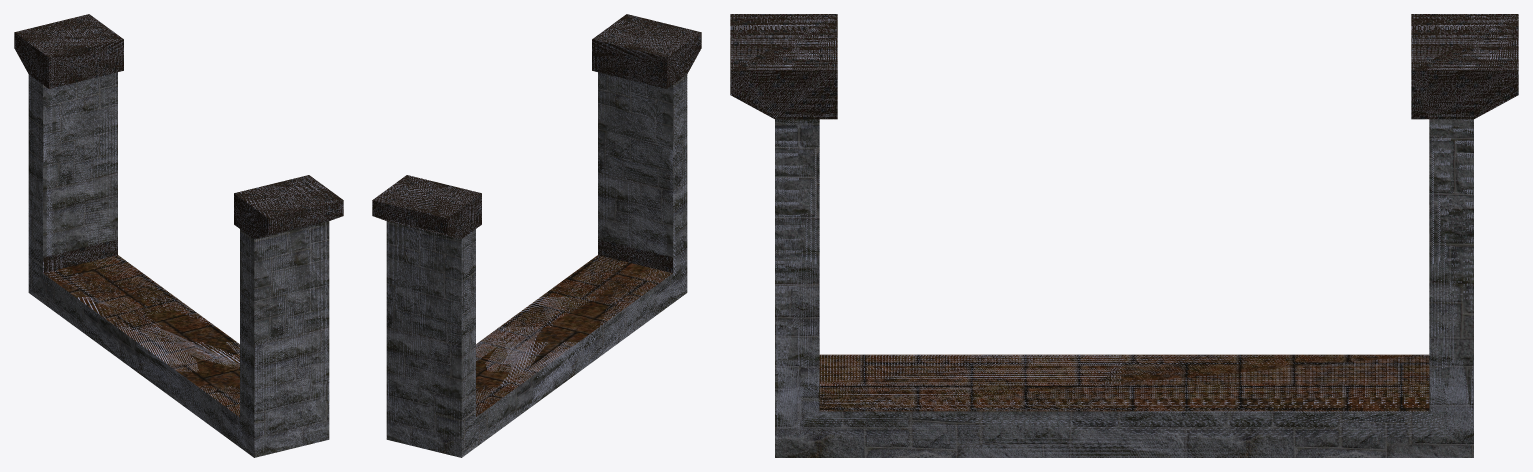
File: IS_13_DPLAT.fbx
The picture shows the model from 3 angles, left to right: view 1: azimuth 30°, elevation 25°; view 2: azimuth 150°, elevation 25°; view 3: azimuth 270°, elevation 25°; orthographic projection. The views are drawn at different scales.
Parts seen in each view (by area): view 1: Group3, Group4, Group2; view 2: Group3, Group4, Group2; view 3: Group3, Group2, Group4.
Part boxes in pixels (box(x1,y1,x2,y2)): Group3: box(28, 72, 329, 457); Group4: box(14, 14, 343, 273); Group2: box(43, 255, 239, 416); Group3: box(386, 72, 687, 457); Group4: box(372, 14, 701, 273); Group2: box(476, 255, 672, 416); Group3: box(775, 119, 1473, 457); Group2: box(819, 354, 1429, 411); Group4: box(730, 14, 1518, 119).
Size of the model in its own units: 15 by 47.75 by 88.12.
